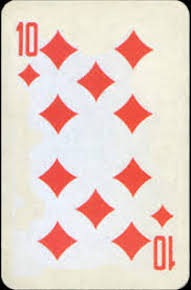TenOfDiamonds: (2, 2, 191, 288)
